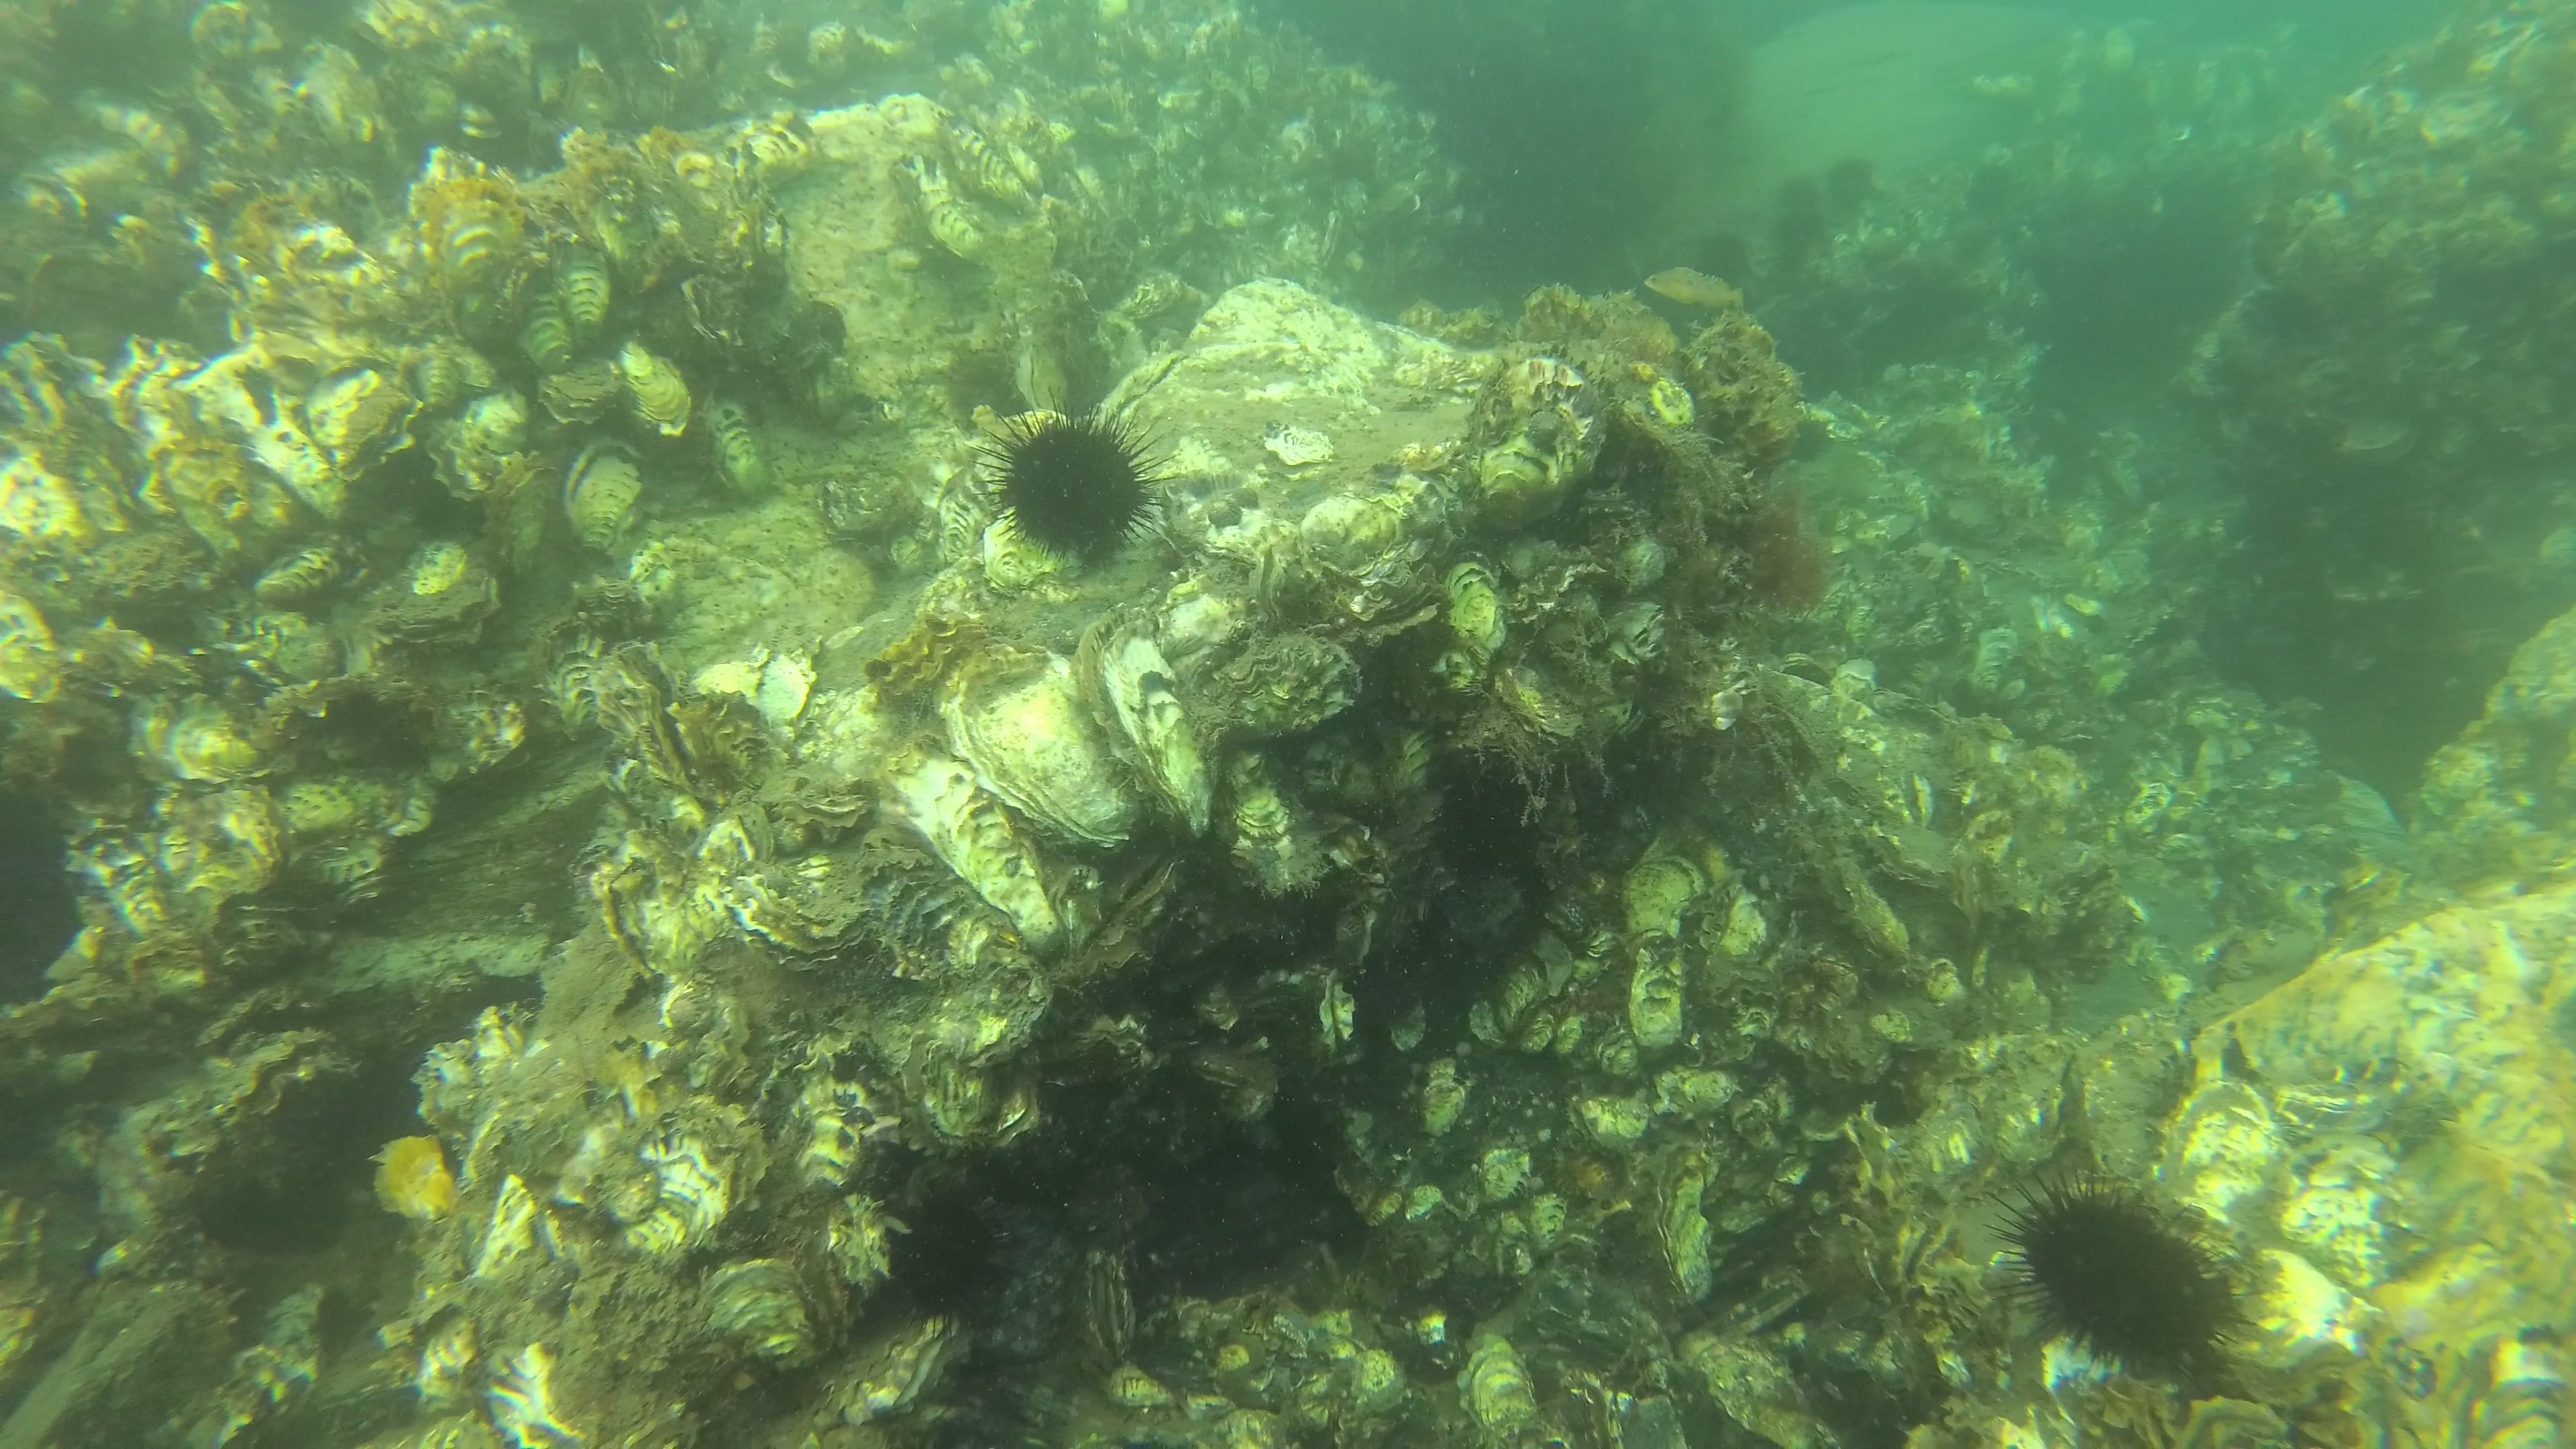echinus: (1992, 1161, 2268, 1391), (980, 403, 1171, 577), (855, 1169, 1031, 1353), (1950, 145, 2029, 221), (1813, 129, 1893, 205), (1753, 136, 1833, 212), (1757, 186, 1836, 262), (1691, 207, 1771, 283)
